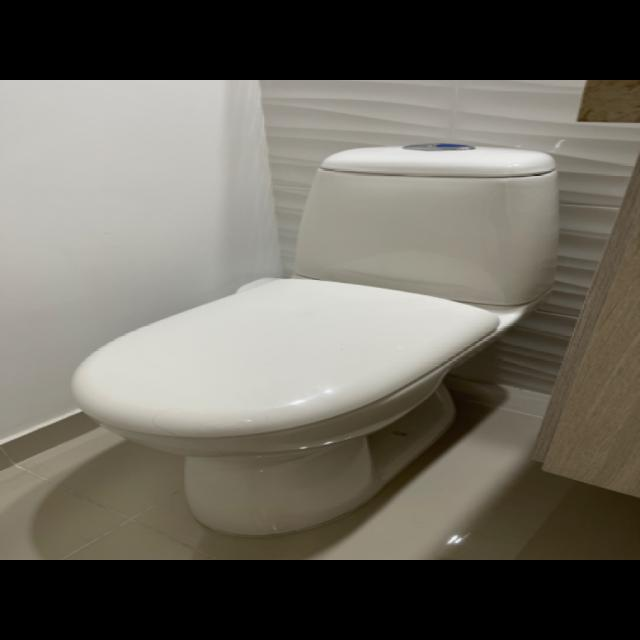toilet: (70, 142, 560, 537)
